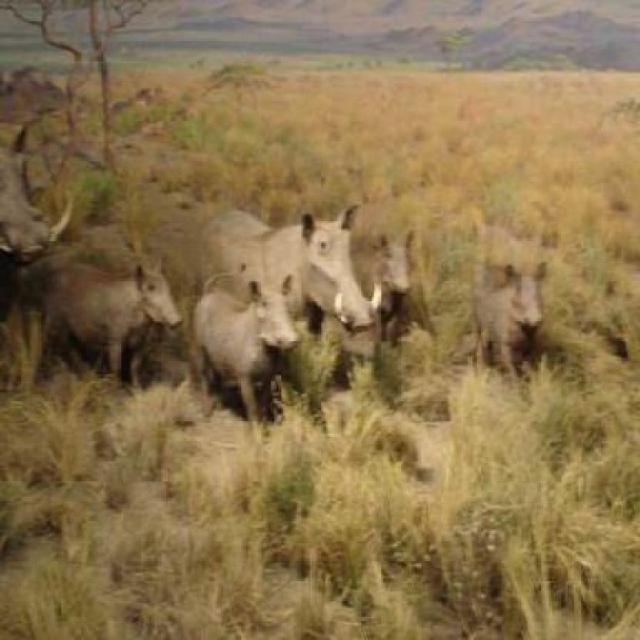Boar: (122, 197, 400, 315), (35, 243, 183, 385), (204, 252, 313, 397), (460, 222, 558, 376), (0, 122, 55, 303), (370, 218, 432, 308)
